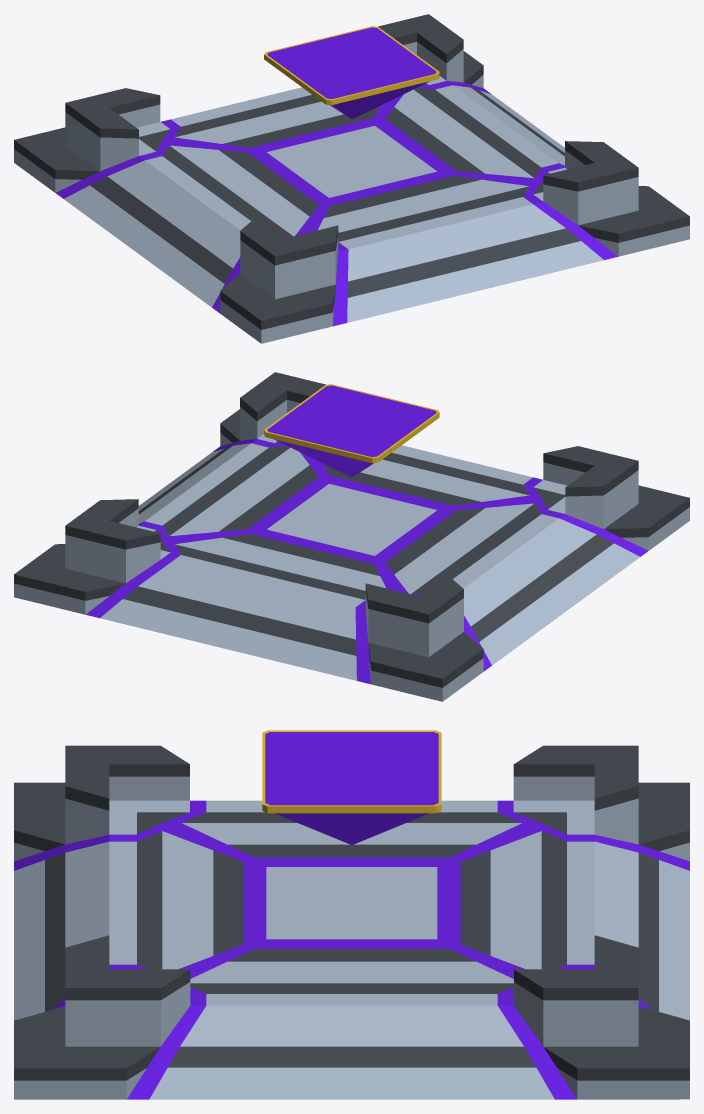
File: Model_Obelisk_BuildSite.fbx
The picture shows the model from 3 angles, top to bottom: view 1: azimuth 30°, elevation 25°; view 2: azimuth 150°, elevation 25°; view 3: azimuth 270°, elevation 25°; orthographic projection. The views are drawn at different scales.
Visible parts, largest first — view 1: Buildsite; view 2: Buildsite; view 3: Buildsite.
Part boxes in pixels (bbox=[...]): Buildsite: bbox=[14, 14, 689, 343]; Buildsite: bbox=[14, 372, 689, 701]; Buildsite: bbox=[14, 730, 689, 1099].
Bounding box in the file's own units: 4338 × 1333 × 4338.
